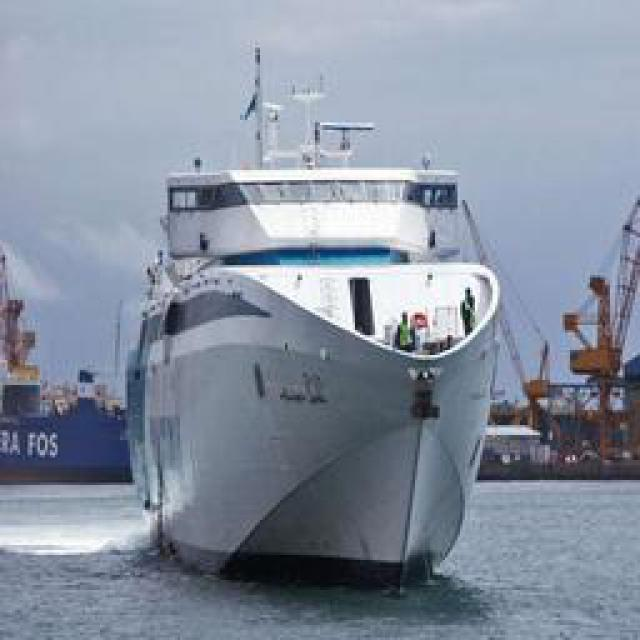Ship: (130, 130, 505, 595)
